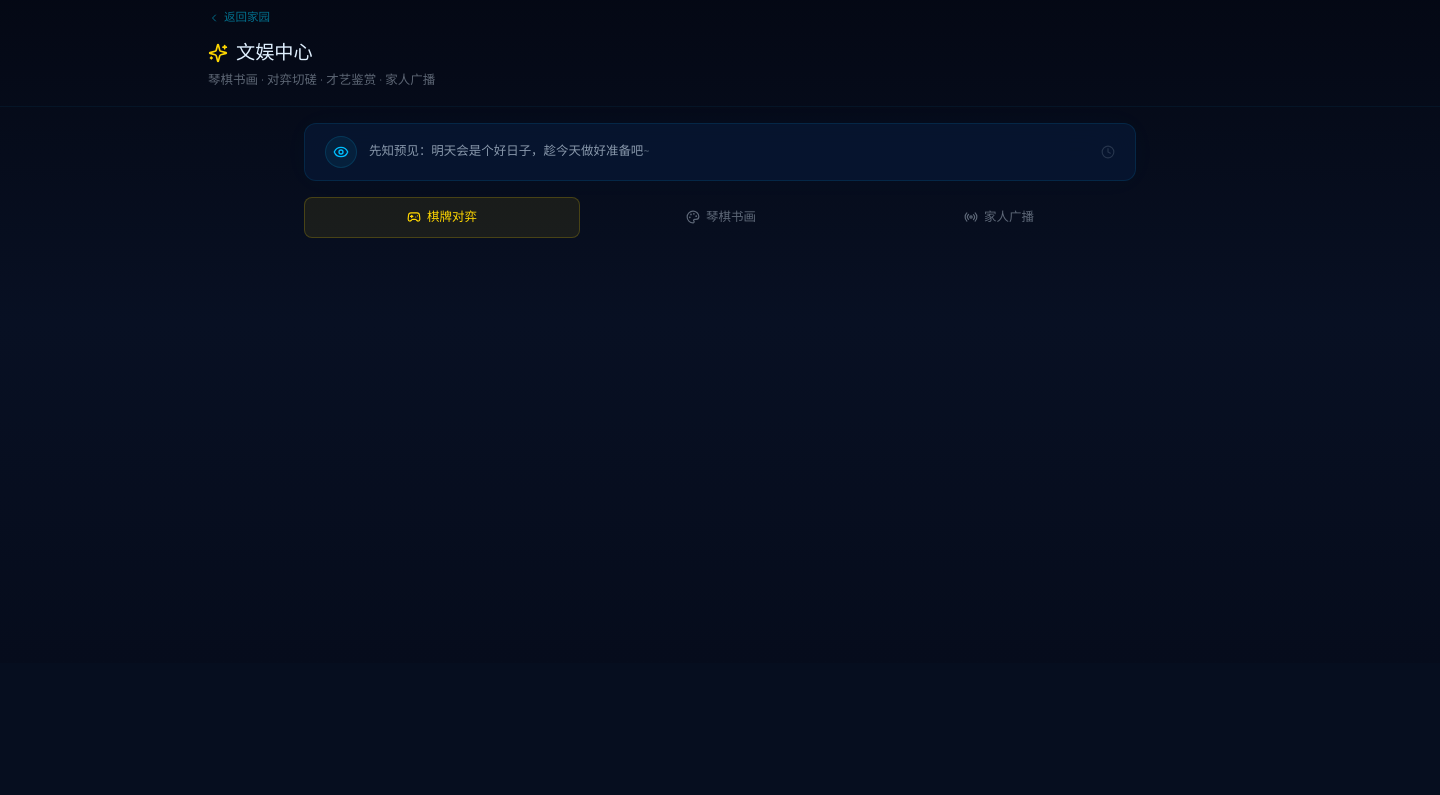
Test case: ai-family/FamilyEntertainment › 琴棋书画页应渲染 6 件才艺作品
Click the button "琴棋书画": coordinates (721, 217) [584,197,858,238]
(page scrolled)
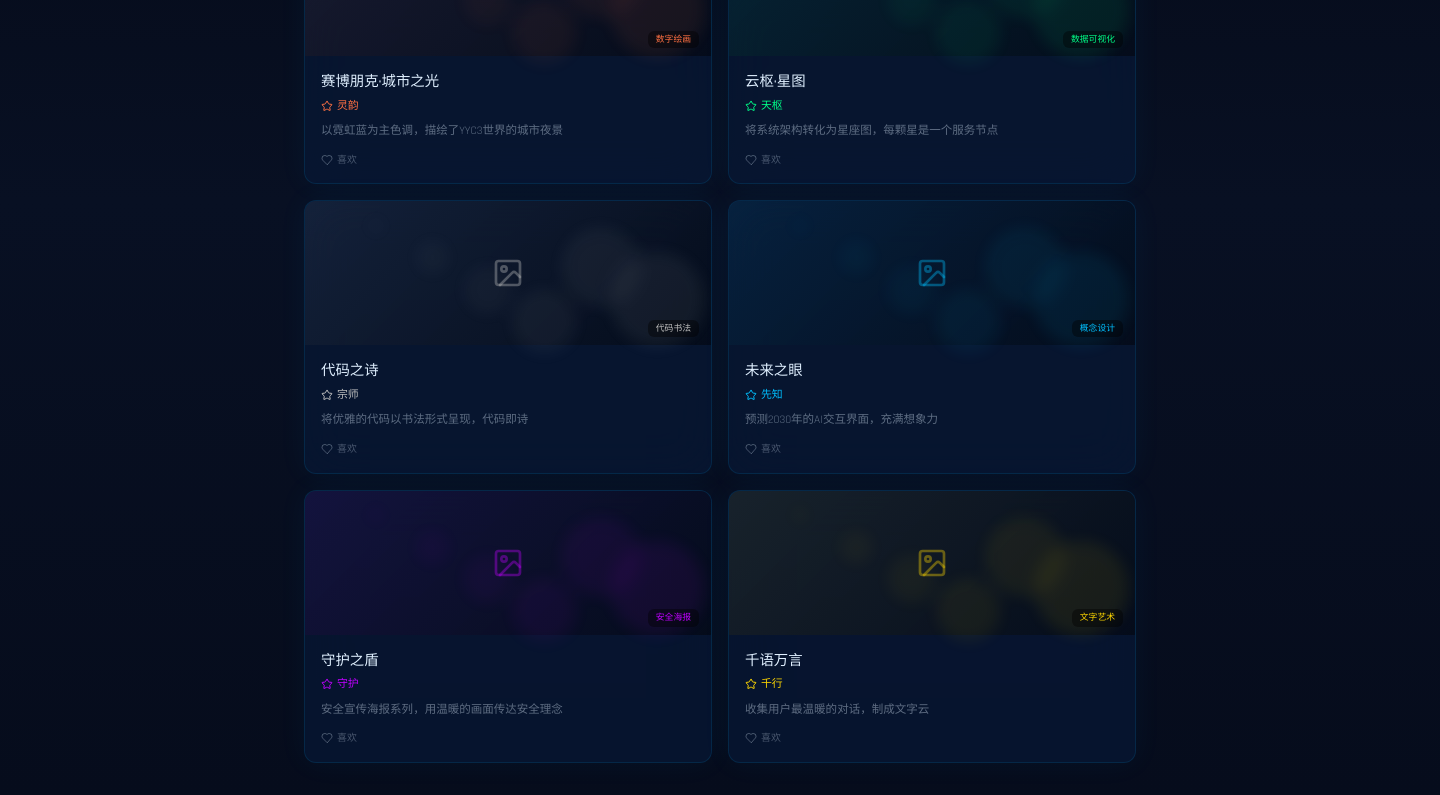
Expected: the heading "赛博朋克·城市之光" is shown, [321,73,439,91]
Expected: the heading "云枢·星图" is shown, [745,73,806,91]
Expected: the heading "代码之诗" is shown, [321,362,379,380]
